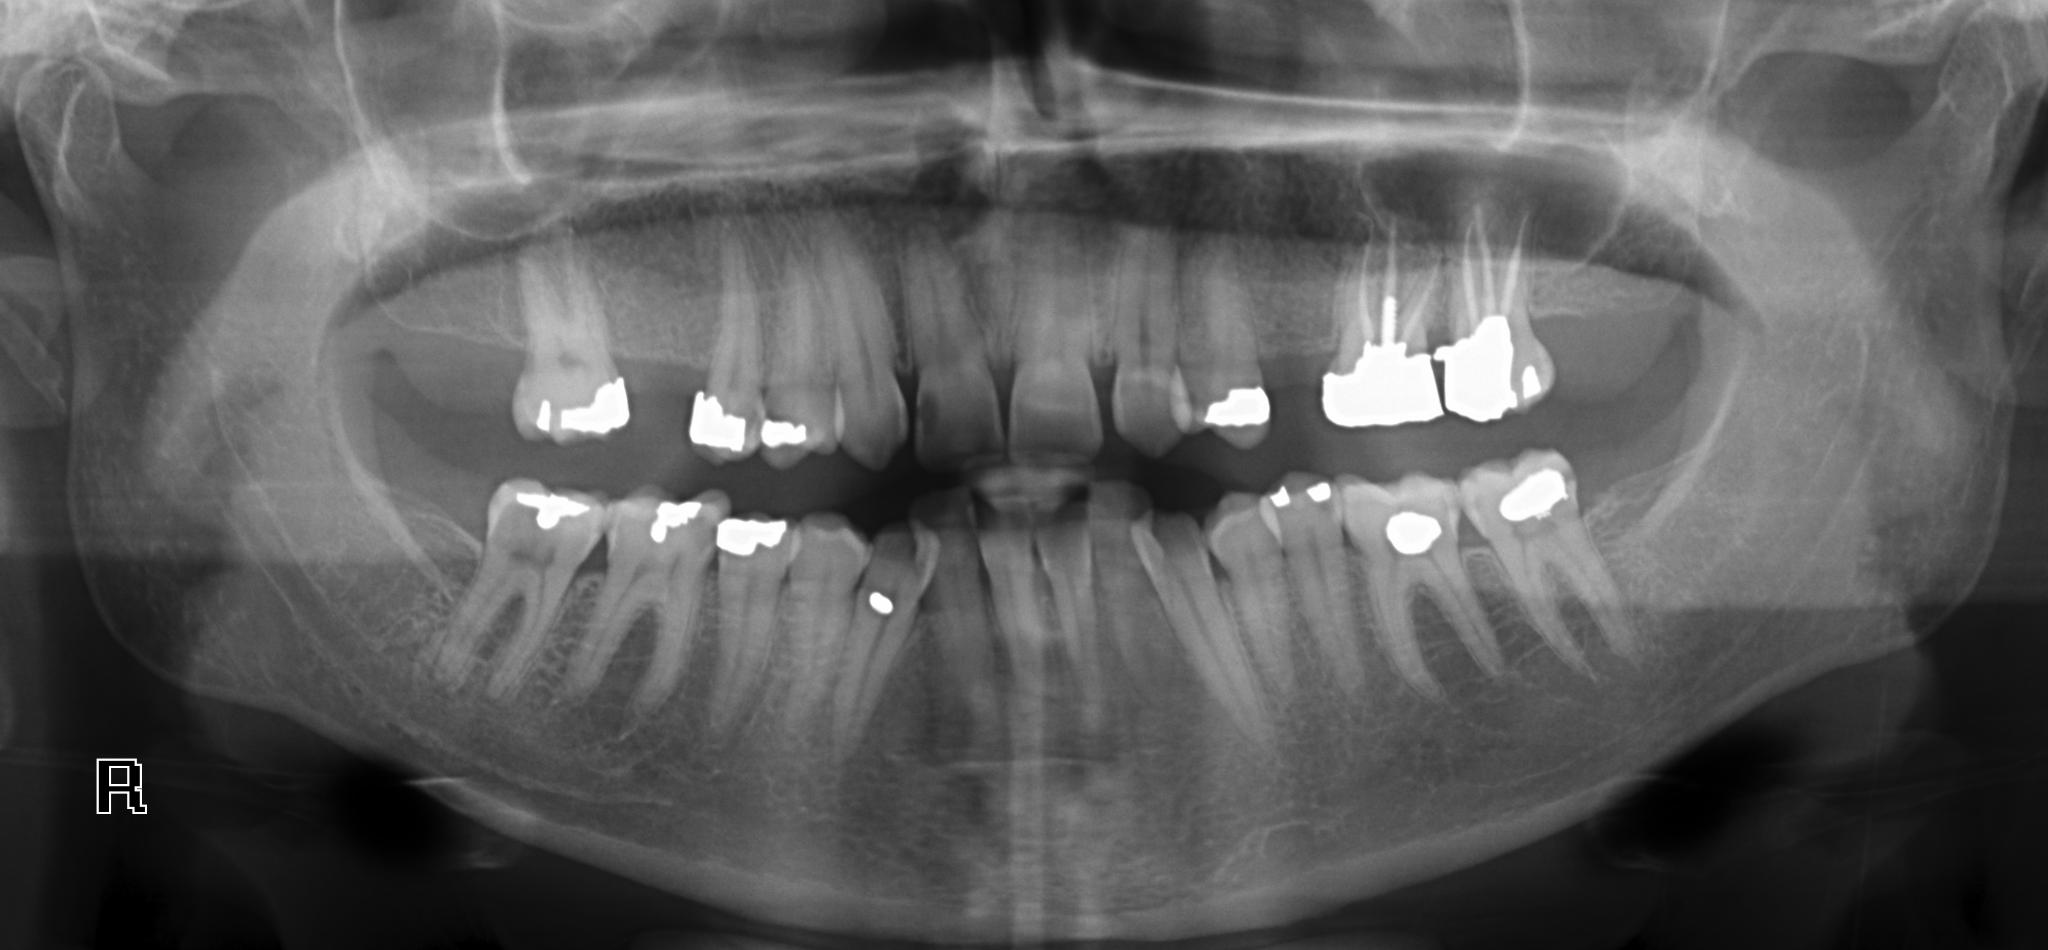fractura: (441, 478, 605, 700), (1460, 448, 1613, 665), (507, 246, 632, 446), (711, 504, 792, 730), (1186, 248, 1272, 446), (760, 267, 833, 473), (687, 268, 764, 461)
otra: (1432, 195, 1558, 431), (1314, 213, 1441, 436)
